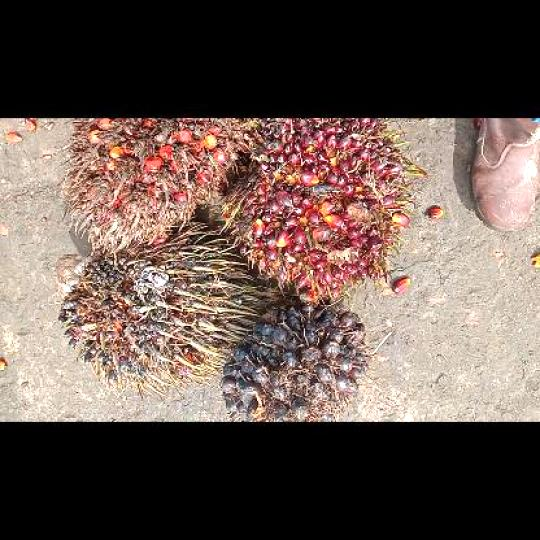masak: (215, 118, 421, 306)
terlalu masak: (63, 118, 249, 248)
